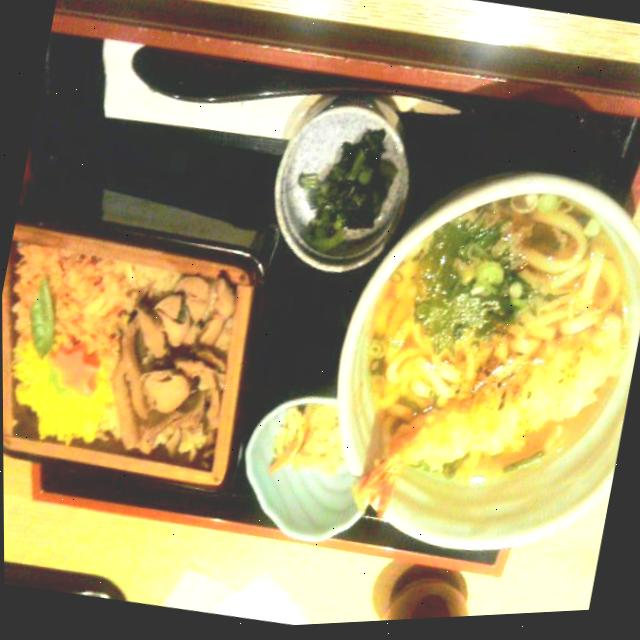面条主食: (333, 159, 640, 566)
